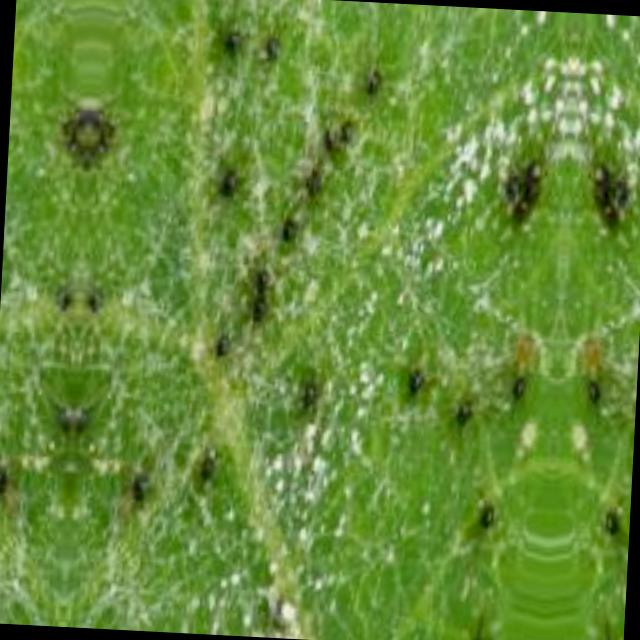Powdery_mildew: (350, 15, 574, 348), (187, 342, 403, 634), (563, 25, 640, 352)
